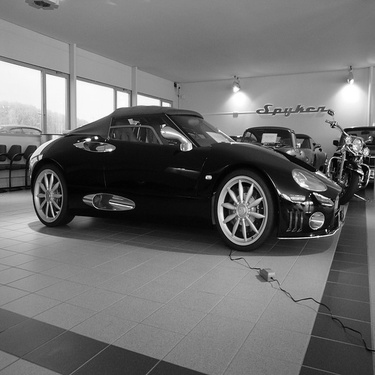car: (17, 106, 347, 254), (323, 125, 373, 189), (211, 138, 307, 165), (266, 139, 320, 167), (1, 137, 55, 148), (305, 146, 328, 169)
